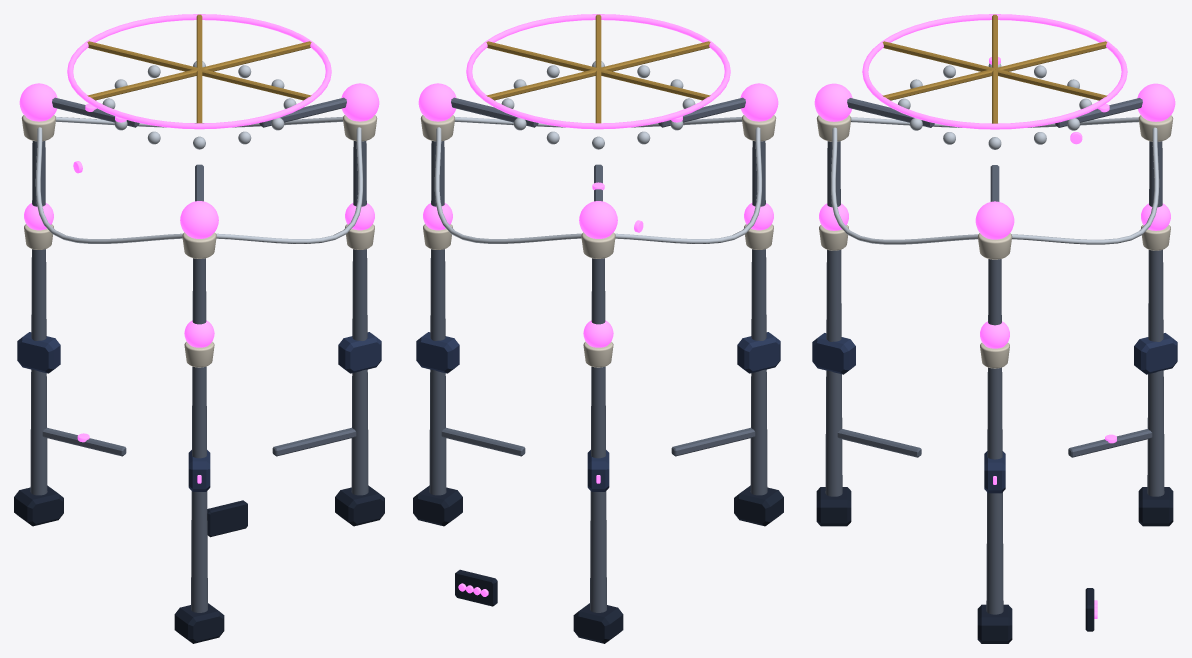
File: tower_arc_range_s10.glb
3 renders of one model, left to right at view 1: azimuth 30°, elevation 25°; view 2: azimuth 150°, elevation 25°; view 3: azimuth 270°, elevation 25°, orthographic.
Visible parts, largest first — view 1: arc_sat_strut2, arc_sat_strut0, arc_sat_strut1, arc_lattice_ring, arc_sat_foot2, arc_sat_foot1, arc_sat_foot0, arc_ioniser0, arc_ioniser1, arc_relay_wire1, arc_relay_wire2, arc_sat_electrode2 (+22 smaller); view 2: arc_sat_strut0, arc_sat_strut1, arc_sat_strut2, arc_lattice_ring, arc_sat_foot0, arc_sat_foot1, arc_sat_foot2, arc_ioniser1, arc_ioniser2, arc_relay_wire2, arc_relay_wire0, arc_sat_electrode0 (+22 smaller); view 3: arc_sat_strut1, arc_sat_strut0, arc_sat_strut2, arc_lattice_ring, arc_ioniser0, arc_ioniser2, arc_relay_wire1, arc_relay_wire0, arc_sat_foot0, arc_sat_foot2, arc_sat_foot1, arc_sat_electrode1 (+21 smaller).
Boxes of the visible parts, x1,y1,x2,y2 form: arc_sat_strut2: (191,258,207,612); arc_sat_strut0: (30,141,47,495); arc_sat_strut1: (351,141,368,495); arc_lattice_ring: (67,14,331,129); arc_sat_foot2: (174,603,224,643); arc_sat_foot1: (335,485,384,526); arc_sat_foot0: (14,485,63,526); arc_ioniser0: (17,332,60,373); arc_ioniser1: (338,332,381,373); arc_relay_wire1: (216,127,363,243); arc_relay_wire2: (35,127,182,243); arc_sat_electrode2: (180,201,218,238); arc_sat_strut0: (590,258,606,612); arc_sat_strut1: (429,141,446,495); arc_sat_strut2: (750,141,767,495); arc_lattice_ring: (466,14,730,129); arc_sat_foot0: (573,603,623,643); arc_sat_foot1: (413,485,462,526); arc_sat_foot2: (734,485,783,526); arc_ioniser1: (416,332,459,373); arc_ioniser2: (737,332,780,373); arc_relay_wire2: (615,127,762,243); arc_relay_wire0: (434,127,581,243); arc_sat_electrode0: (579,201,617,238); arc_sat_strut1: (986,259,1003,614); arc_sat_strut0: (1147,141,1164,496); arc_sat_strut2: (825,141,842,496); arc_lattice_ring: (862,14,1127,129); arc_ioniser0: (1134,333,1177,374); arc_ioniser2: (812,333,855,374); arc_relay_wire1: (831,127,978,244); arc_relay_wire0: (1011,127,1159,244); arc_sat_foot0: (1138,487,1173,526); arc_sat_foot2: (816,487,851,526); arc_sat_foot1: (977,604,1012,643); arc_sat_electrode1: (975,201,1014,239).
Size of the model in its own units: 1.75 by 2.64 by 1.69.
